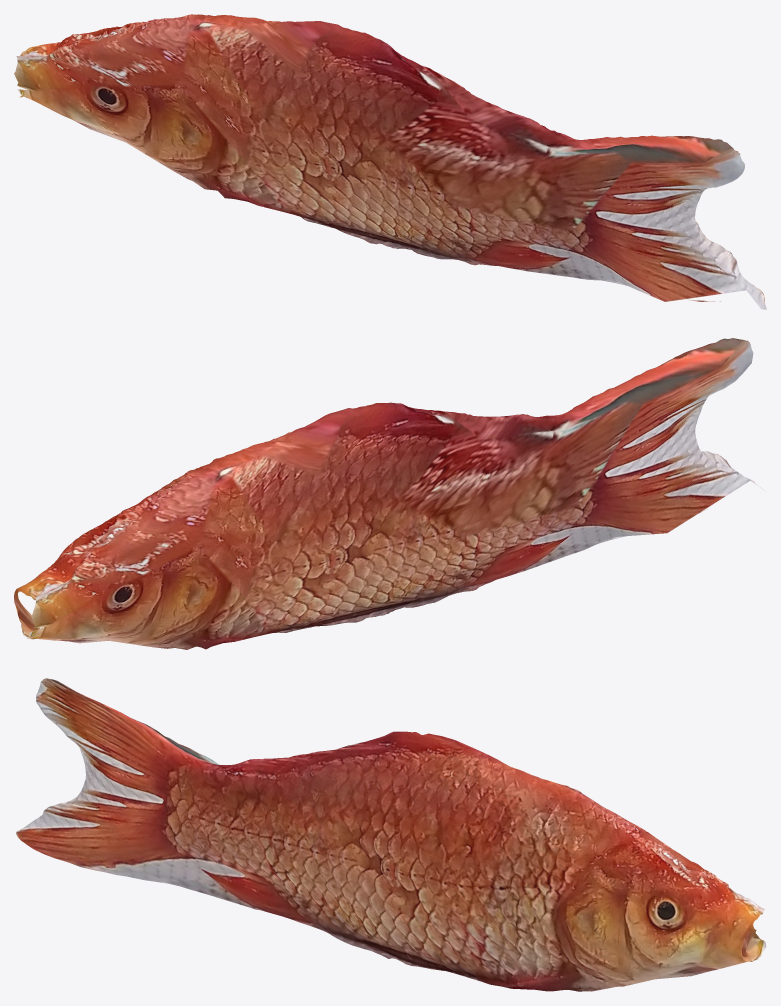
Rendered from Carassius_auratus.glb.
3 views of the same model, one above another, from view 1: azimuth 90°, elevation 25°; view 2: azimuth 150°, elevation 25°; view 3: azimuth 270°, elevation 25° (orthographic). The views are drawn at different scales.
Visible parts, largest first — view 1: e3b12c2e-eab3-4a99-8ac2-ec570ff5f538; view 2: e3b12c2e-eab3-4a99-8ac2-ec570ff5f538; view 3: e3b12c2e-eab3-4a99-8ac2-ec570ff5f538.
Part boxes in pixels (box(x1,y1,x2,y2)): e3b12c2e-eab3-4a99-8ac2-ec570ff5f538: box(14, 14, 766, 309); e3b12c2e-eab3-4a99-8ac2-ec570ff5f538: box(14, 338, 764, 649); e3b12c2e-eab3-4a99-8ac2-ec570ff5f538: box(16, 678, 766, 991).
Size of the model in its own units: 0.3803 by 0.2182 by 0.6668.
Materials: 1 (1 with a texture image).
